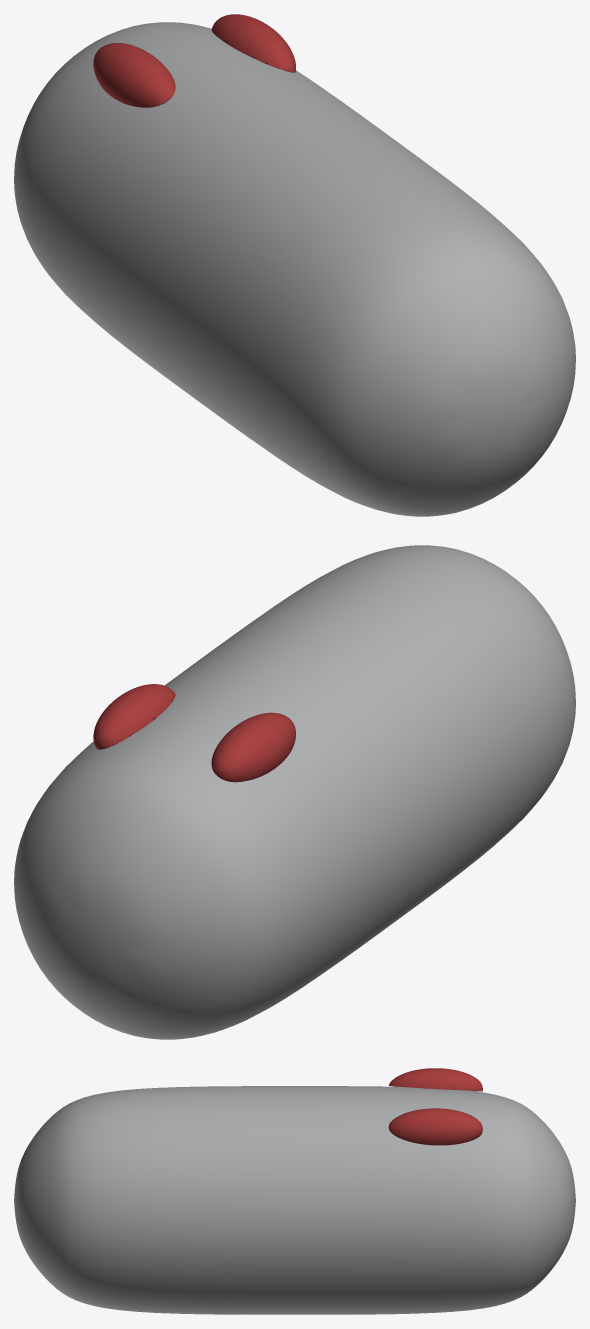
The model's file is player_standIn.dae.
3 views of the same model, one above another, from view 1: azimuth 30°, elevation 25°; view 2: azimuth 150°, elevation 25°; view 3: azimuth 270°, elevation 25° (orthographic). The views are drawn at different scales.
Parts seen in each view (by area): view 1: player_standIn; view 2: player_standIn; view 3: player_standIn.
Part boxes in pixels (x1,y1,x2,y2): player_standIn: (14,14,575,516); player_standIn: (14,545,575,1039); player_standIn: (14,1068,575,1314).
Bounding box in the file's own units: 0.7598 × 1.86 × 0.7831.
